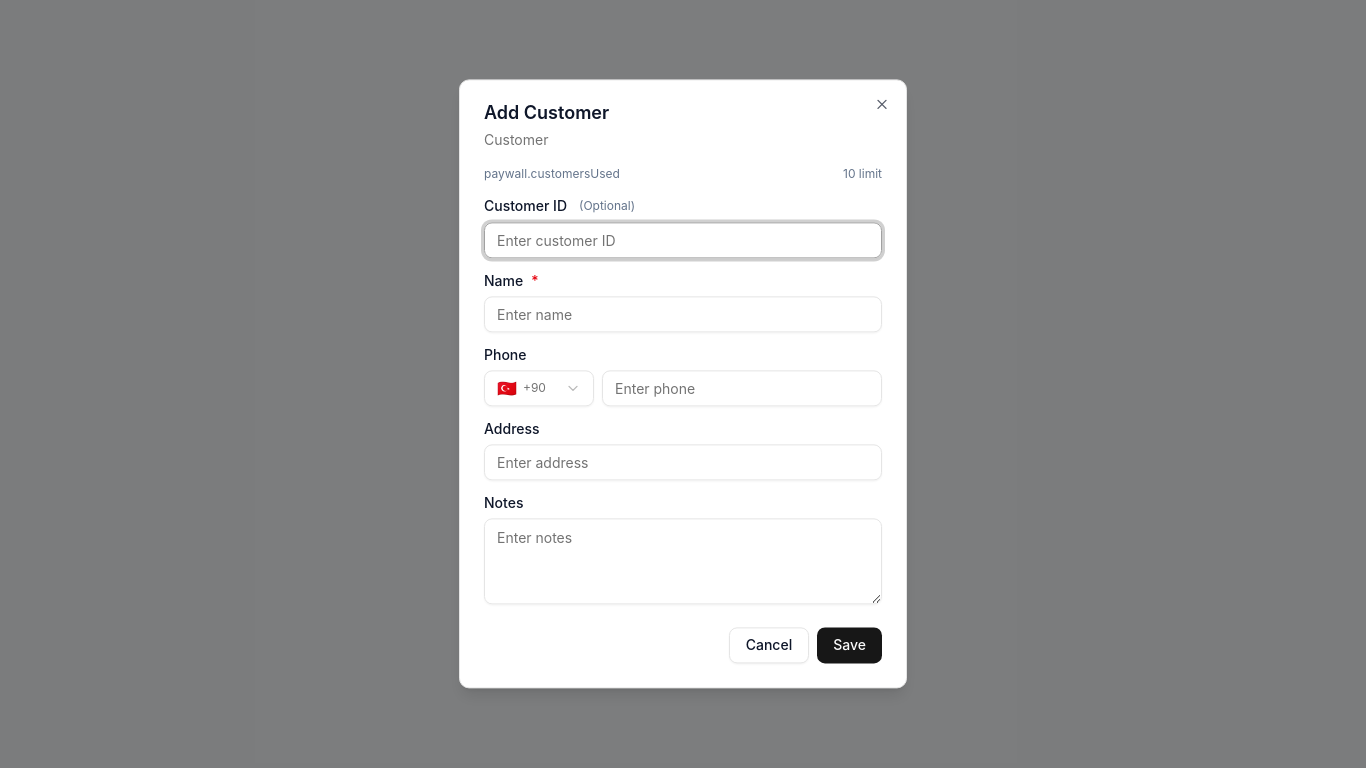
Test: AddCustomerModal › Form Submission › should show loading state during submission
Type "John Doe" into the field with id "name" at x=683, y=314, box [484,296,882,332]
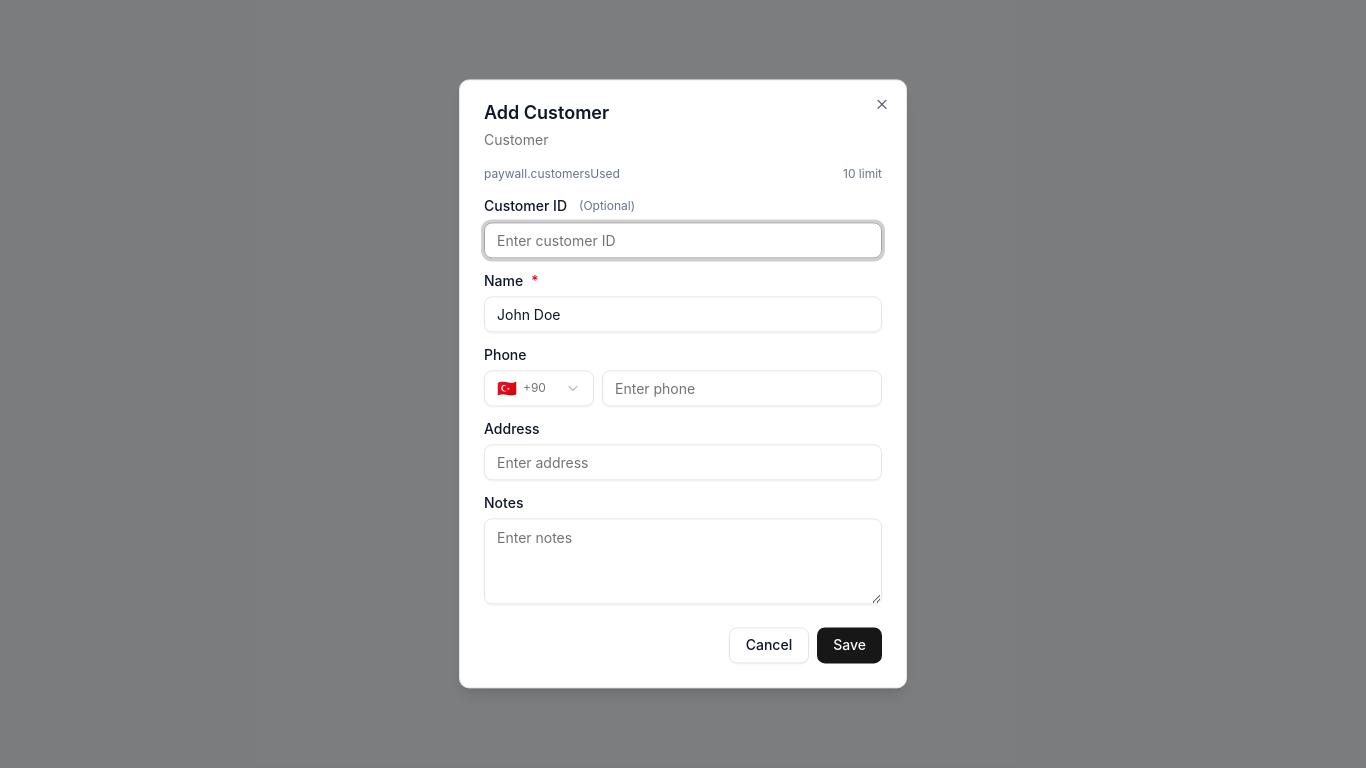
Submit the form, box [484,104,882,664]
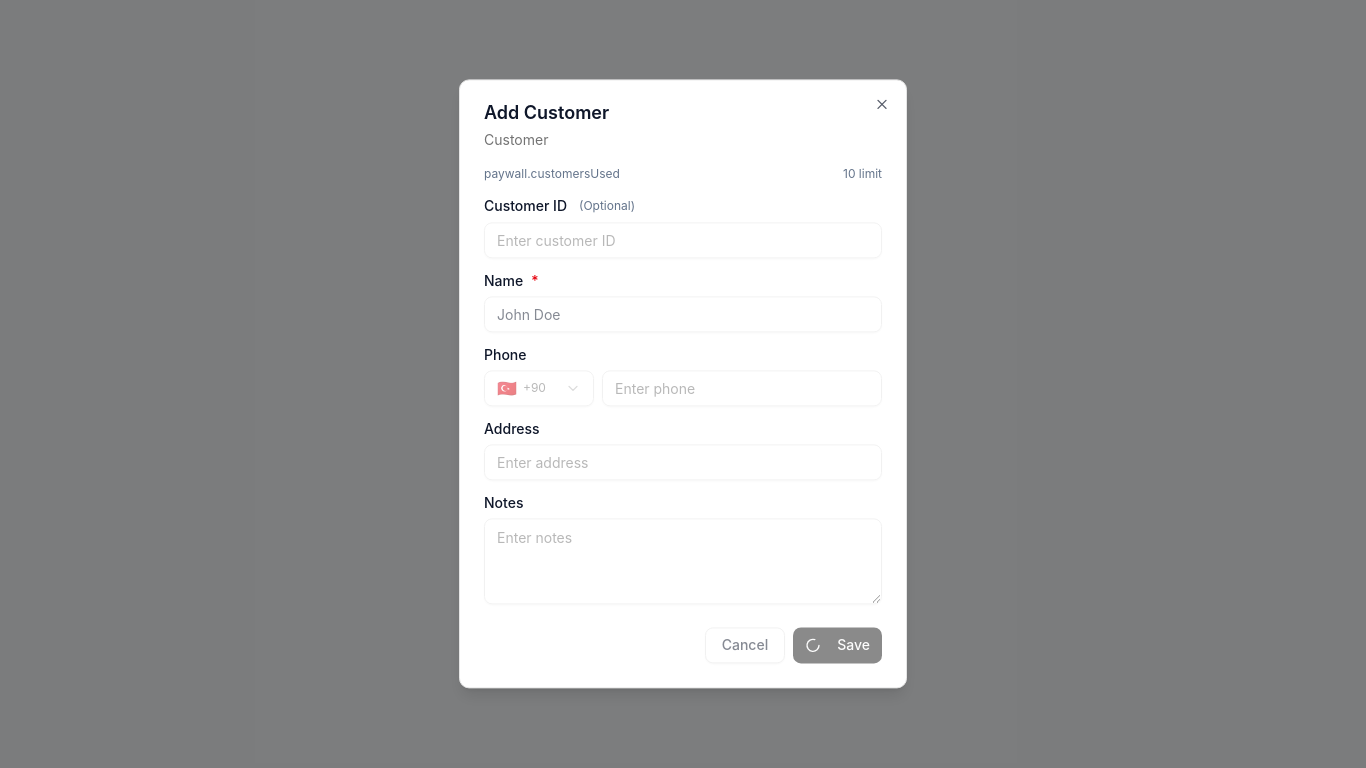
Now the icon with class "animate-spin" is shown, box [805,638,821,654]
